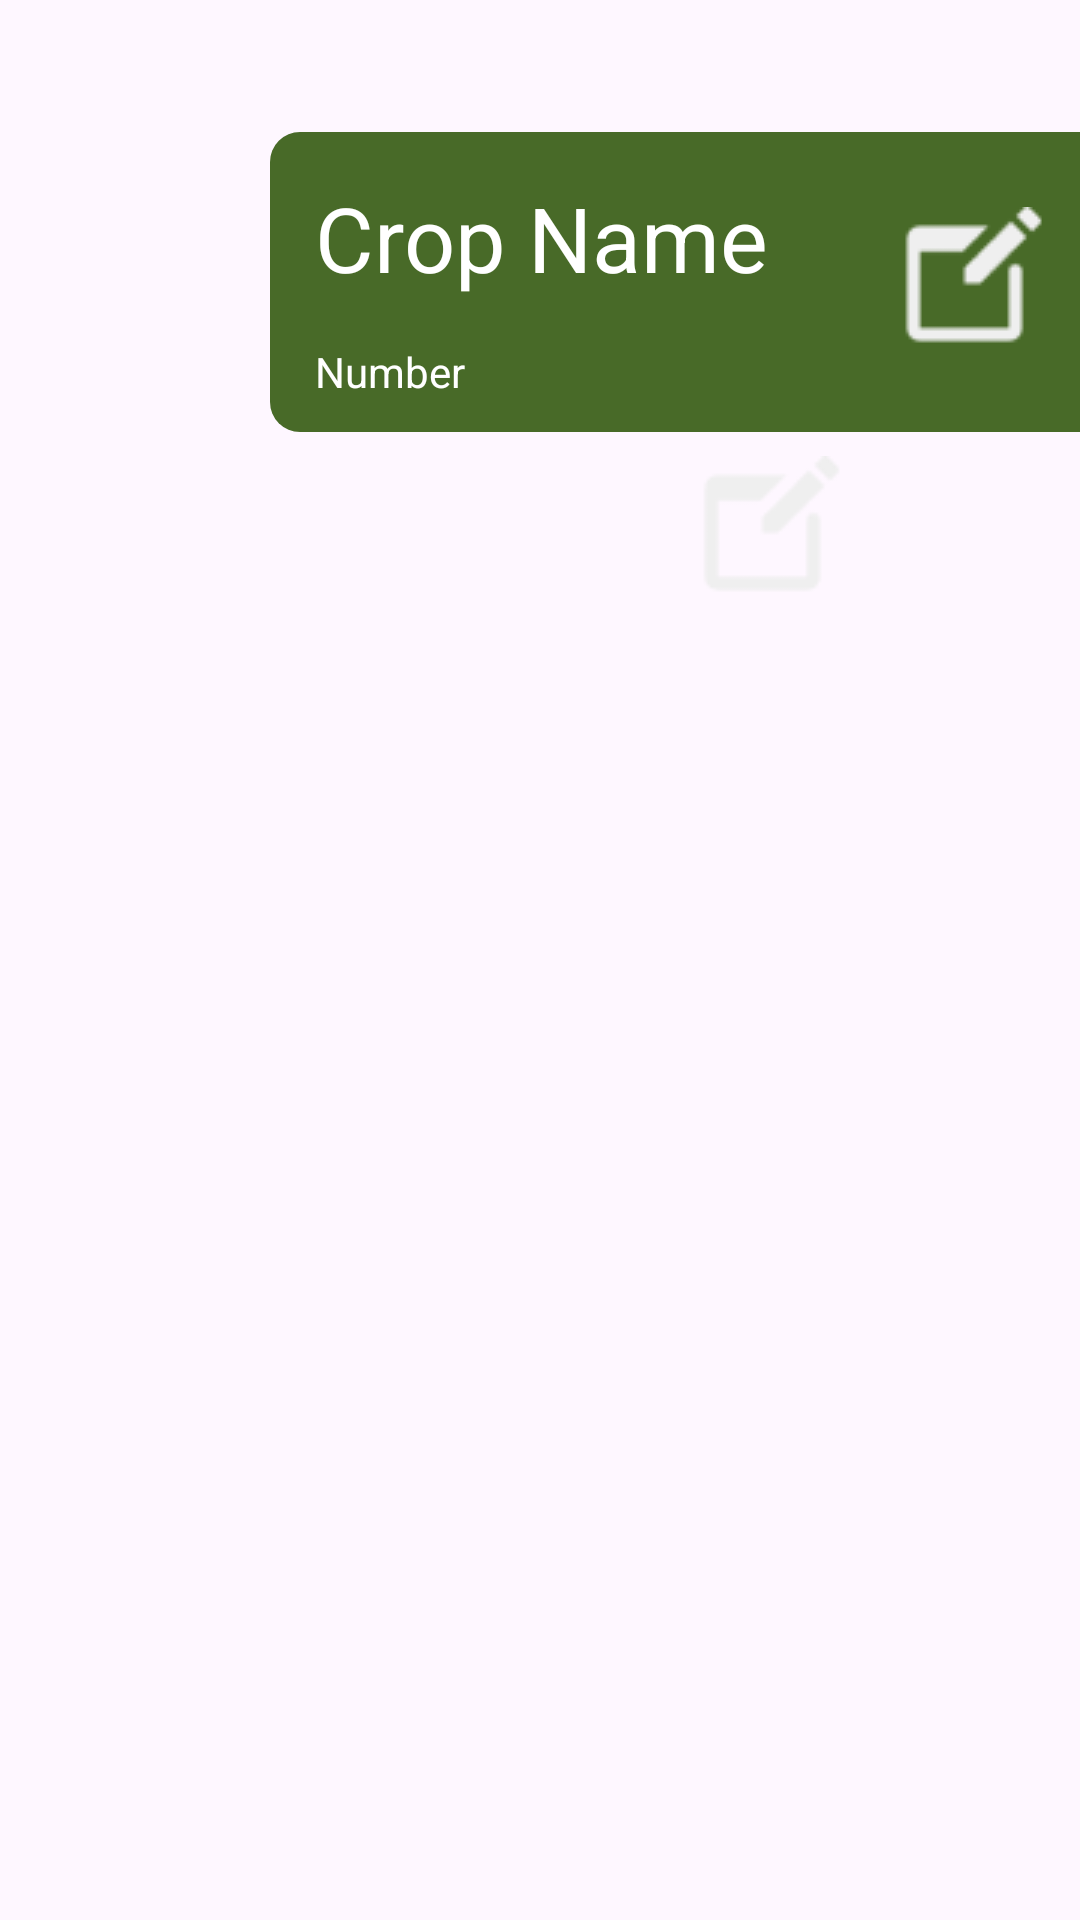

Point at icon controls on the screen. Image size 1080px×1920px, points as [x,y].
create: [973,275]
